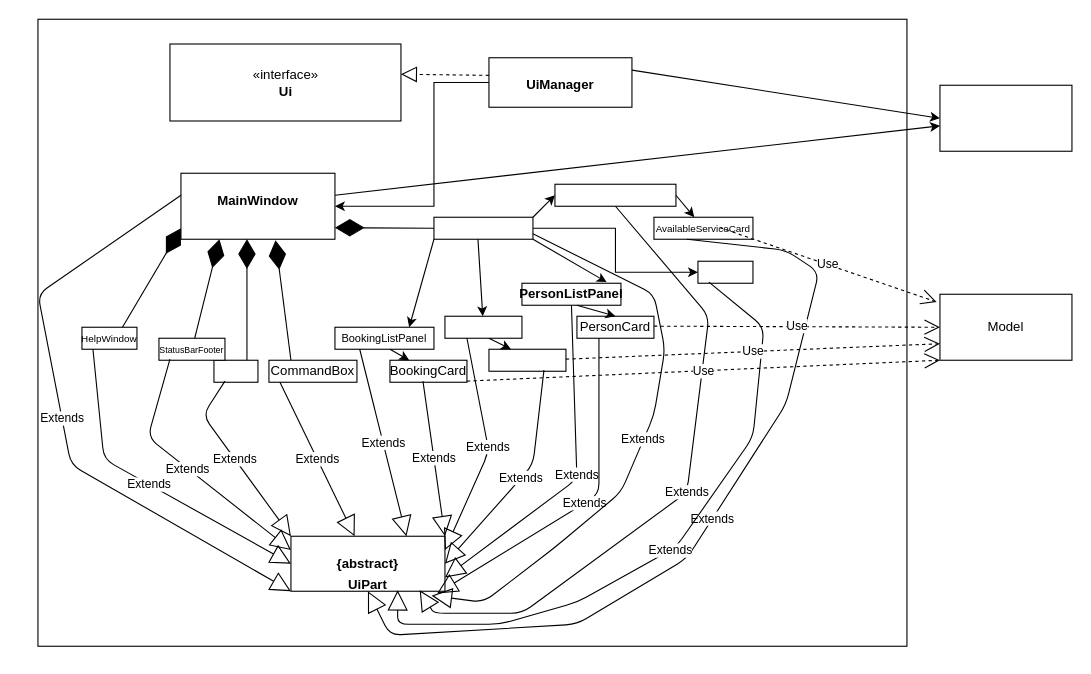
Image size: 1091x674. Some labels were removed from this diagram. The centre of each missing label's shape, as x and y in pixels:
"AvailableServiceListPanel" belongs at (615,194).
"Logic" belongs at (1005,117).
"MainTabPane" belongs at (483,227).
"ResultDisplay" belongs at (235,370).
"RoomCard" belongs at (527,359).
"RoomListPanel" belongs at (483,326).
"WelcomePanel" belongs at (725,271).
